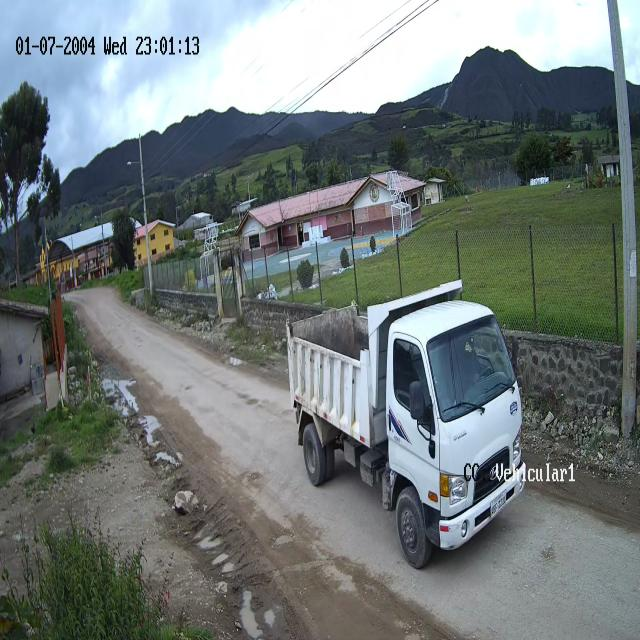TRUCK: (287, 282, 528, 571)
